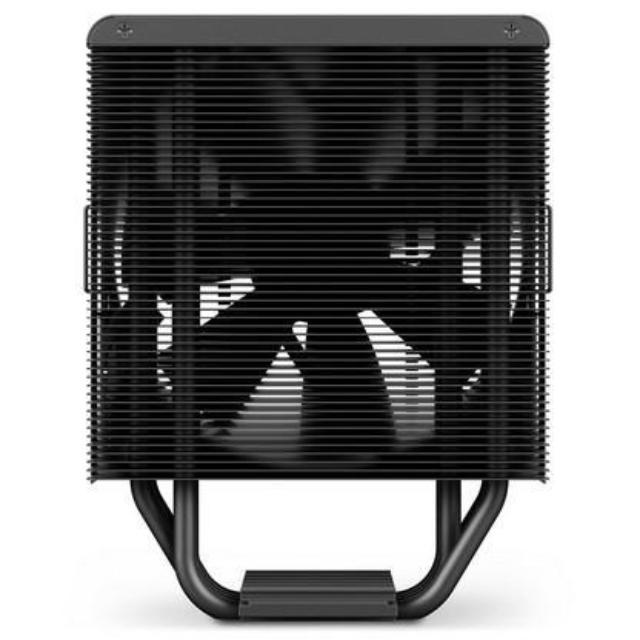CPU_Fan: (82, 15, 550, 630)
